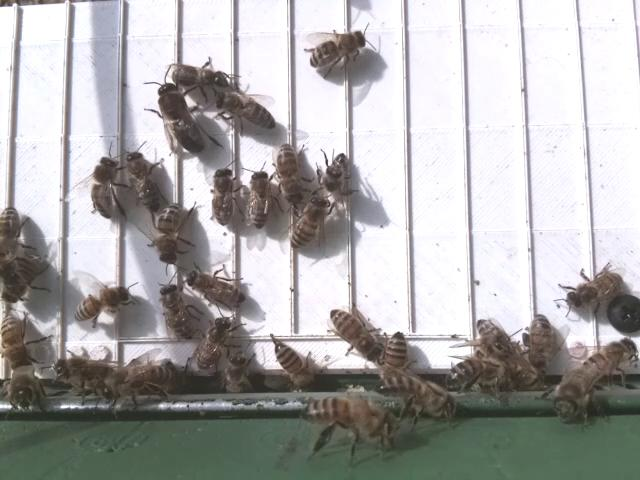Drone: (155, 80, 209, 161)
Worker: (325, 303, 381, 363), (211, 90, 281, 132), (562, 267, 623, 312), (69, 285, 136, 324), (123, 149, 163, 214), (306, 30, 369, 71), (158, 279, 198, 343), (87, 154, 123, 221), (289, 194, 330, 252), (186, 269, 250, 306), (0, 310, 36, 374), (273, 139, 307, 205), (194, 315, 234, 371), (154, 203, 187, 270), (169, 60, 233, 93), (524, 310, 556, 375), (245, 168, 273, 231), (210, 163, 237, 228), (0, 205, 27, 269), (384, 327, 410, 388)
